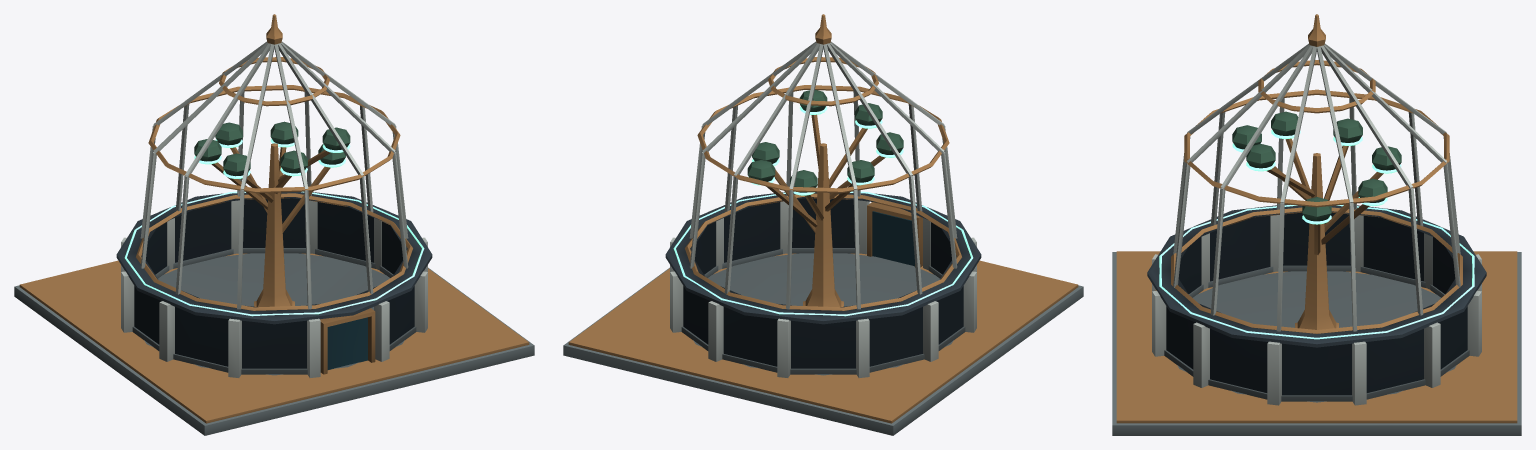
Rendered from knowledge-atrium.lod2.glb.
3 views of the same model, side by side, from view 1: azimuth 30°, elevation 25°; view 2: azimuth 150°, elevation 25°; view 3: azimuth 270°, elevation 25° (orthographic). The views are drawn at different scales.
Parts seen in each view (by area): view 1: structure, lobby; view 2: structure, lobby; view 3: structure, lobby.
Part boxes in pixels (x1,y1,x2,y2): structure: (14, 14, 534, 435); lobby: (134, 198, 414, 369); structure: (563, 14, 1083, 435); lobby: (683, 198, 963, 368); structure: (1112, 14, 1521, 435); lobby: (1166, 212, 1467, 395).
Size of the model in its own units: 24 by 21.7 by 24.
